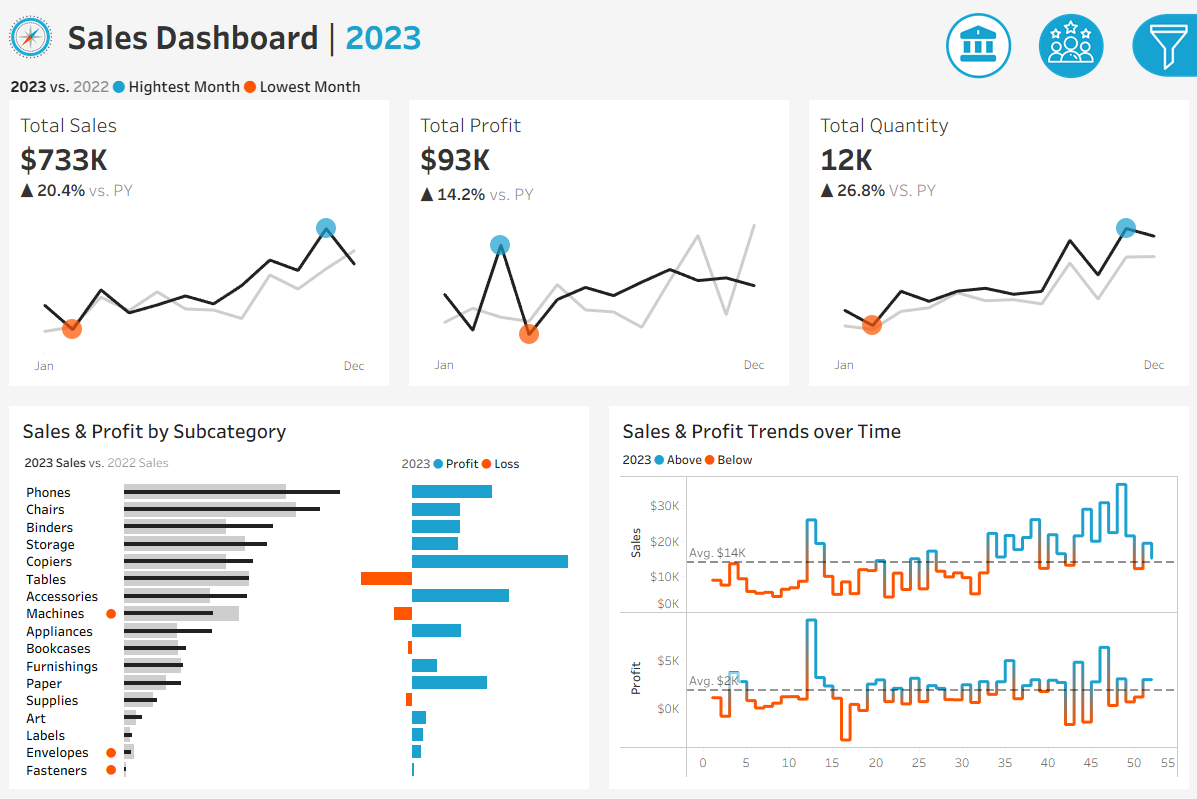

Layout of this report page (visuals, bound fields, positions):
{"tool":"tableau","page":{"name":"Sales Dashboard","canvas":[1200,800],"ordinal":1},"visuals":[{"type":"image","param":"D:/Job/data proj/sales-dashboard-project/images/Icon - Logo.png","box":[0,0,62,75]},{"type":"text","box":[62,0,858,75]},{"type":"dashboard-object","box":[933,9,93,75]},{"type":"dashboard-object","box":[1026,9,93,75]},{"type":"blank","box":[978,10,212,89]},{"type":"worksheet","title":"Legends of KPI","mark":"Automatic","box":[0,75,1200,26]},{"type":"text","box":[978,99,212,37]},{"type":"worksheet","title":"KPI Sales","mark":"Automatic","rows":["Calculation_1437628786999300"],"cols":["Order Date"],"box":[0,101,400,296]},{"type":"worksheet","title":"KPI Profit","mark":"Circle","rows":["Min/Max of Sales (copy)_0139930711506947"],"cols":["Order Date"],"box":[400,101,400,296]},{"type":"worksheet","title":"KPI Quantity","mark":"Automatic","rows":["Min/Max of Sales (copy)_2254566614982659"],"cols":["Order Date"],"box":[800,101,400,296]},{"type":"parameter","param":"[Parameters].[Parameter 1]","box":[978,136,212,52]},{"type":"blank","box":[978,188,212,47]},{"type":"text","box":[978,235,212,29]},{"type":"filter","title":"KPI Sales","param":"[federated.0hzhoox1c9gnbz19mtf5o0jdayku].[none:Category:nk]","box":[978,264,212,52]},{"type":"filter","title":"KPI Sales","param":"[federated.0hzhoox1c9gnbz19mtf5o0jdayku].[none:Sub-Category:nk]","box":[978,316,212,52]},{"type":"blank","box":[978,368,212,68]},{"type":"text","box":[17,414,566,34]},{"type":"text","box":[617,414,566,34]},{"type":"text","box":[978,436,212,29]},{"type":"worksheet","title":"Legends of subcategory","mark":"Automatic","box":[17,448,379,32]},{"type":"text","box":[396,448,187,32]},{"type":"text","box":[617,448,566,25]},{"type":"filter","title":"KPI Sales","param":"[federated.0hzhoox1c9gnbz19mtf5o0jdayku].[none:Region:nk]","box":[978,465,212,52]},{"type":"worksheet","title":"Weekly Trends","mark":"Line","rows":["Calculation_1437628781568000","CY Sales (copy)_0139930707484672"],"cols":["Order Date"],"box":[617,473,566,310]},{"type":"worksheet","title":"Subcategory comparison","mark":"Bar","rows":["Sub-Category","Calculation_2254566623907846"],"cols":["CY Sales (copy)_1437628782145537","Calculation_1437628781568000","CY Sales (copy)_0139930707484672"],"box":[17,480,566,302.9]},{"type":"filter","title":"KPI Sales","param":"[federated.0hzhoox1c9gnbz19mtf5o0jdayku].[none:State:nk]","box":[978,517,212,52]},{"type":"filter","title":"KPI Sales","param":"[federated.0hzhoox1c9gnbz19mtf5o0jdayku].[none:City:nk]","box":[978,569,212,52]}]}

Visuals, with their boxes in screenshot pixels (x1, y1, x2, y2), scaled from the page's 1200x800 canvas onto the 1197x799 screenshot:
image: rect(0, 0, 62, 75)
text: rect(62, 0, 918, 75)
dashboard-object: rect(931, 9, 1023, 84)
dashboard-object: rect(1023, 9, 1116, 84)
blank: rect(976, 10, 1187, 99)
"Legends of KPI" worksheet: rect(0, 75, 1196, 101)
text: rect(976, 99, 1187, 136)
"KPI Sales" worksheet: rect(0, 101, 399, 397)
"KPI Profit" worksheet (Circle marks): rect(399, 101, 798, 397)
"KPI Quantity" worksheet: rect(798, 101, 1196, 397)
parameter: rect(976, 136, 1187, 188)
blank: rect(976, 188, 1187, 235)
text: rect(976, 235, 1187, 264)
"KPI Sales" filter: rect(976, 264, 1187, 316)
"KPI Sales" filter: rect(976, 316, 1187, 368)
blank: rect(976, 368, 1187, 435)
text: rect(17, 413, 582, 447)
text: rect(615, 413, 1180, 447)
text: rect(976, 435, 1187, 464)
"Legends of subcategory" worksheet: rect(17, 447, 395, 479)
text: rect(395, 447, 582, 479)
text: rect(615, 447, 1180, 472)
"KPI Sales" filter: rect(976, 464, 1187, 516)
"Weekly Trends" worksheet (Line marks): rect(615, 472, 1180, 782)
"Subcategory comparison" worksheet (Bar marks): rect(17, 479, 582, 782)
"KPI Sales" filter: rect(976, 516, 1187, 568)
"KPI Sales" filter: rect(976, 568, 1187, 620)
